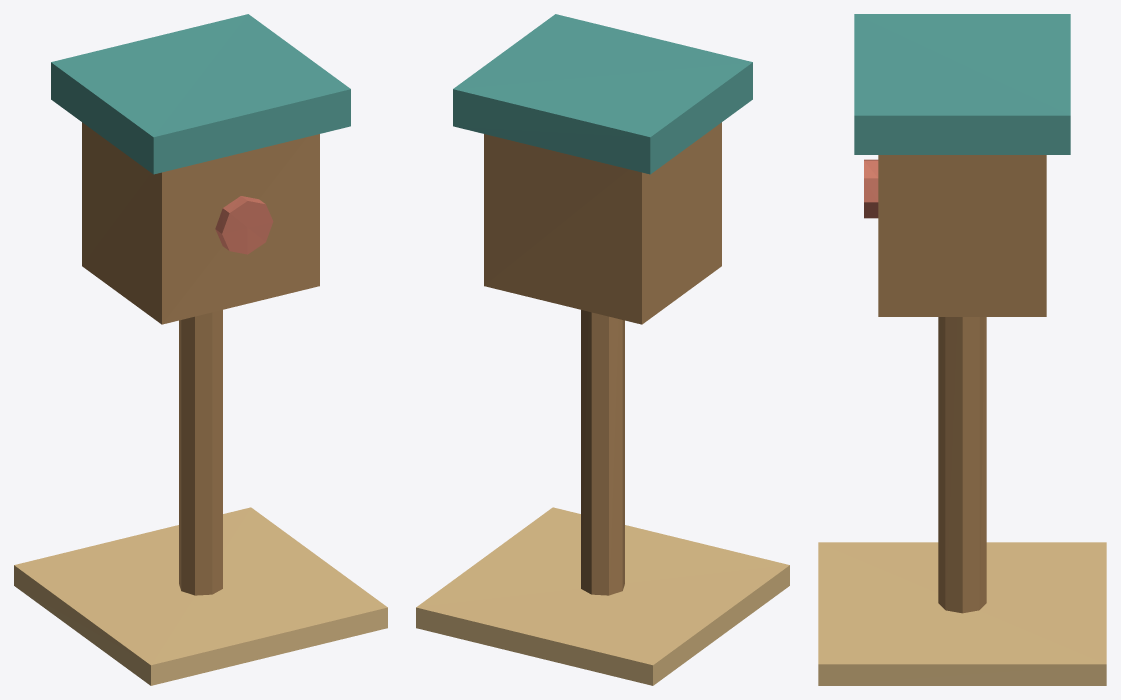
The model's file is birdhouse.source.glb.
The picture shows the model from 3 angles, left to right: view 1: azimuth 30°, elevation 25°; view 2: azimuth 150°, elevation 25°; view 3: azimuth 270°, elevation 25°; orthographic projection. The views are drawn at different scales.
Visible parts, largest first — view 1: birdhouse-base-mesh, birdhouse-house-mesh, birdhouse-roof-mesh, birdhouse-post-mesh, birdhouse-entry-mesh; view 2: birdhouse-base-mesh, birdhouse-house-mesh, birdhouse-roof-mesh, birdhouse-post-mesh; view 3: birdhouse-base-mesh, birdhouse-roof-mesh, birdhouse-house-mesh, birdhouse-post-mesh, birdhouse-entry-mesh.
Part boxes in pixels (<box>): birdhouse-base-mesh: <box>14,507,387,685</box>; birdhouse-house-mesh: <box>82,122,319,324</box>; birdhouse-roof-mesh: <box>51,14,350,174</box>; birdhouse-post-mesh: <box>179,310,222,595</box>; birdhouse-entry-mesh: <box>215,196,273,254</box>; birdhouse-base-mesh: <box>416,507,789,685</box>; birdhouse-house-mesh: <box>484,122,721,324</box>; birdhouse-roof-mesh: <box>453,14,752,174</box>; birdhouse-post-mesh: <box>581,310,624,595</box>; birdhouse-base-mesh: <box>818,542,1106,685</box>; birdhouse-roof-mesh: <box>854,14,1070,154</box>; birdhouse-house-mesh: <box>878,155,1046,316</box>; birdhouse-post-mesh: <box>938,317,986,613</box>; birdhouse-entry-mesh: <box>864,159,878,218</box>.
Bounding box in the file's own units: 1.2 × 2.57 × 1.2.
